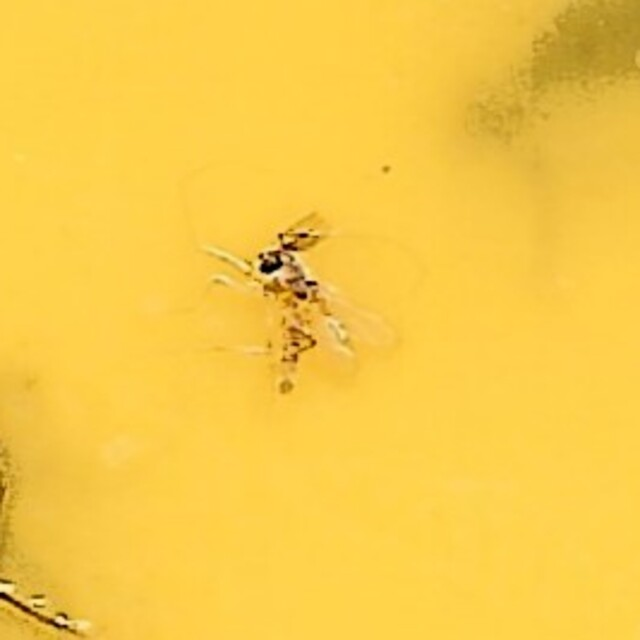Nematocera: (240, 216, 400, 424)
